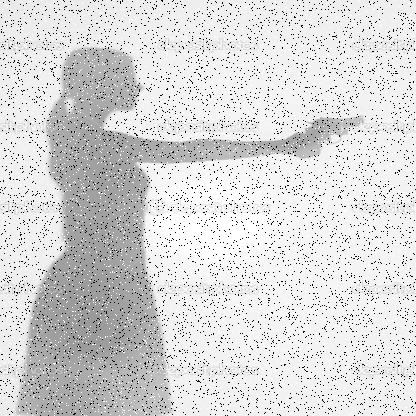pistol: (294, 111, 370, 159)
